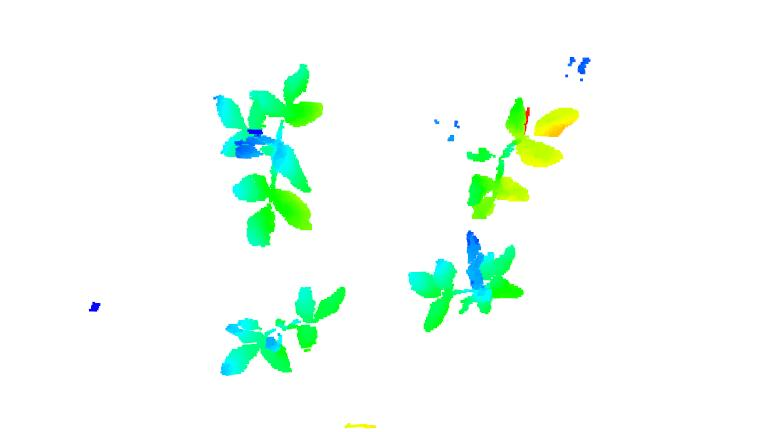mungbean: (209, 60, 327, 250), (461, 91, 579, 223), (215, 278, 352, 381), (409, 225, 526, 335)
